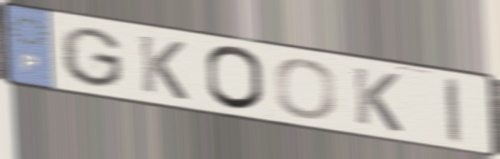G: (56, 24, 127, 90)
I: (441, 76, 464, 147)
K: (349, 64, 405, 135), (135, 32, 191, 103)
O: (203, 44, 267, 114), (273, 57, 339, 121)
